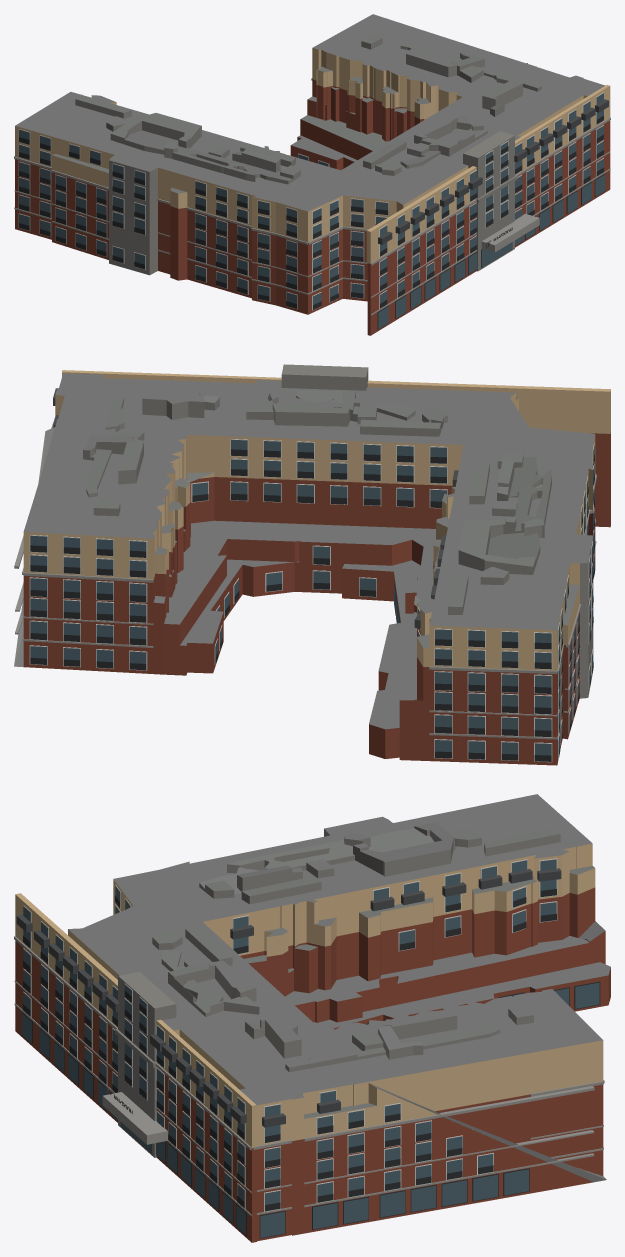
Rendered from de-makroon.glb.
3 views of the same model, one above another, from view 1: azimuth 30°, elevation 25°; view 2: azimuth 150°, elevation 25°; view 3: azimuth 270°, elevation 25° (orthographic). The views are drawn at different scales.
Visible parts, largest first — view 1: de-makroon; view 2: de-makroon; view 3: de-makroon.
Part boxes in pixels (box(x1,y1,x2,y2)): de-makroon: box(14, 14, 610, 335); de-makroon: box(14, 364, 610, 765); de-makroon: box(14, 794, 610, 1242).
Bounding box in the file's own units: 105 × 23.81 × 84.68.
